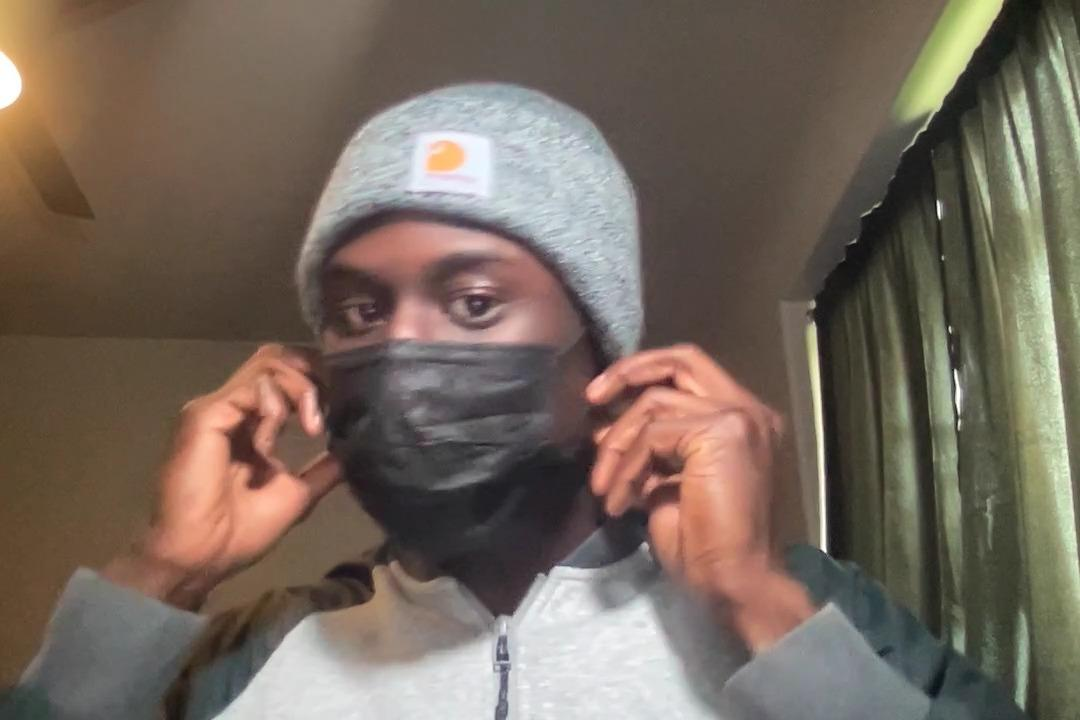face: (298, 122, 620, 561)
